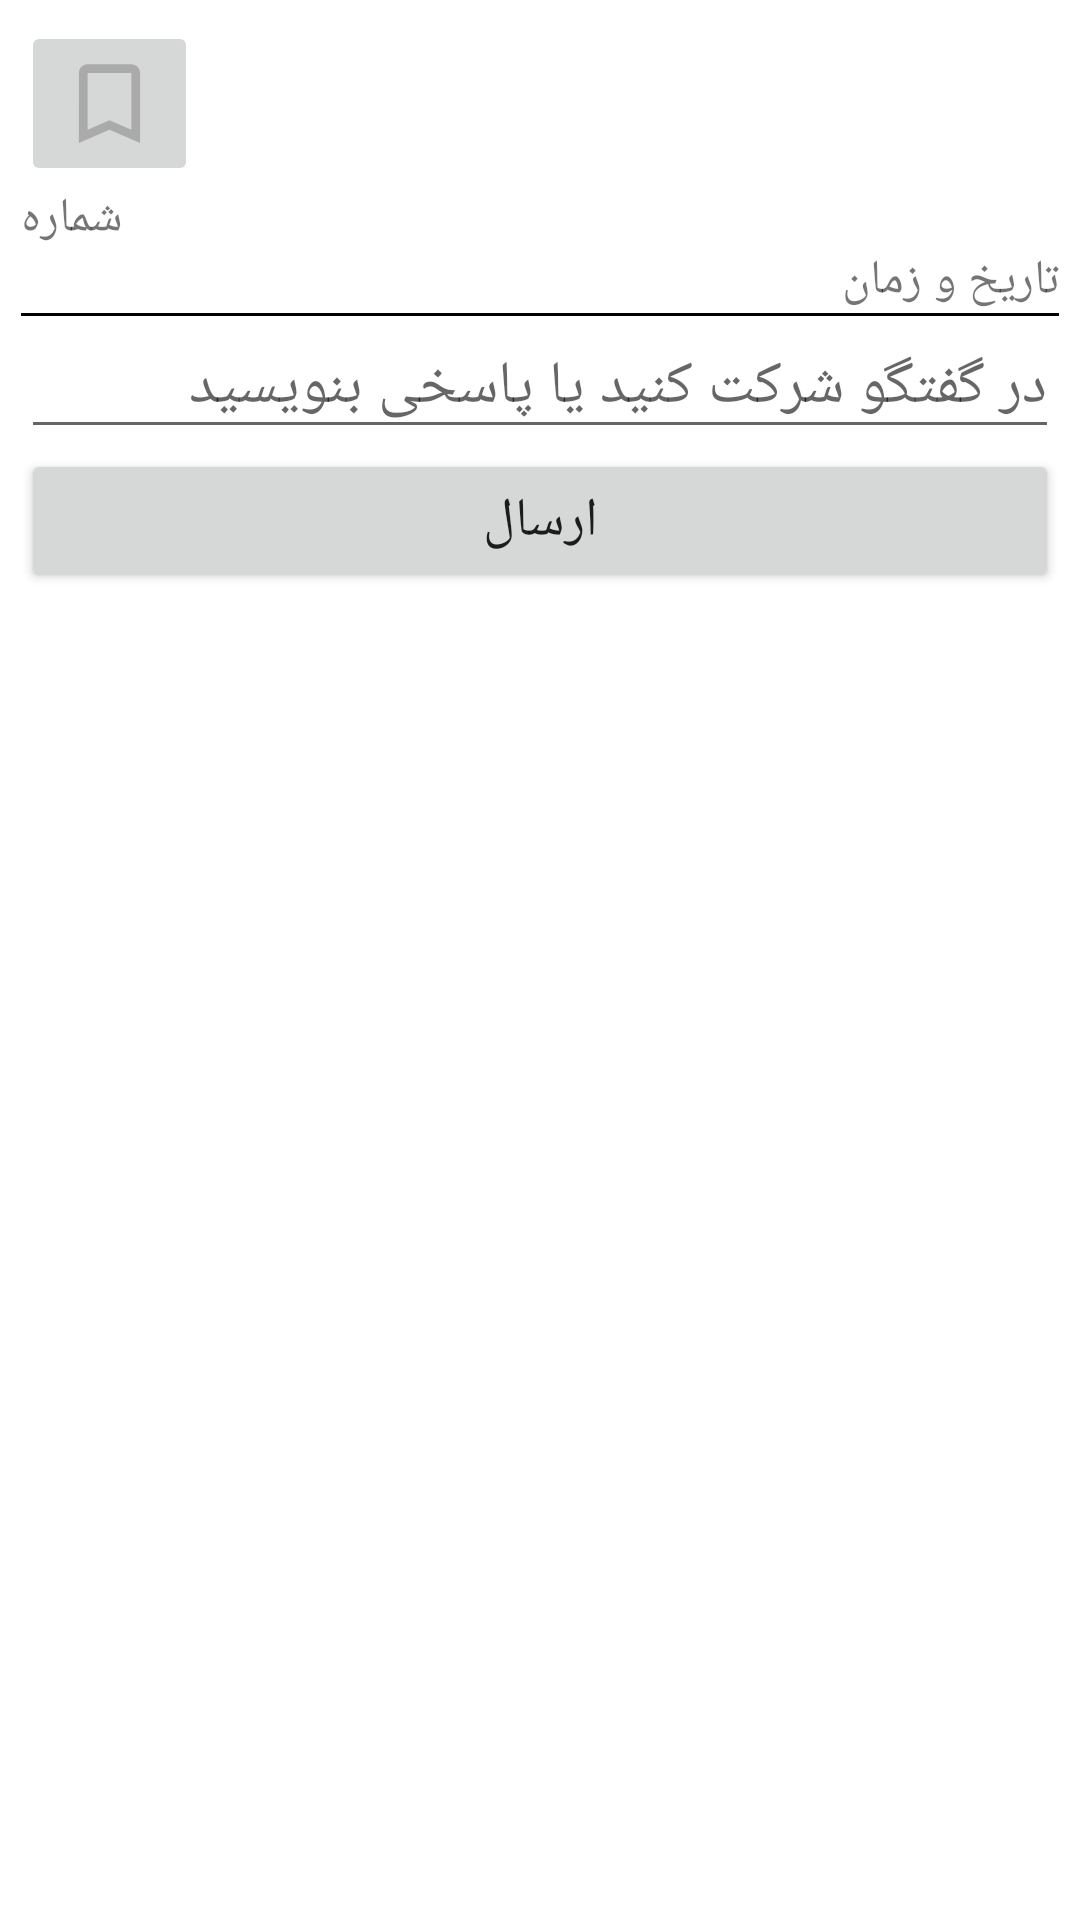

Named icons in this screenshot (1080px×1920px) and their centers, (x=x, y=y):
bookmark border: (x=109, y=103)
